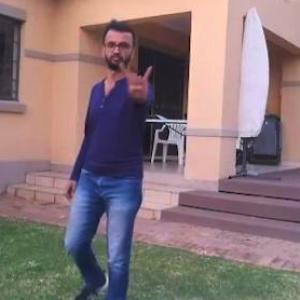takeoff-hand: (116, 55, 162, 107)
